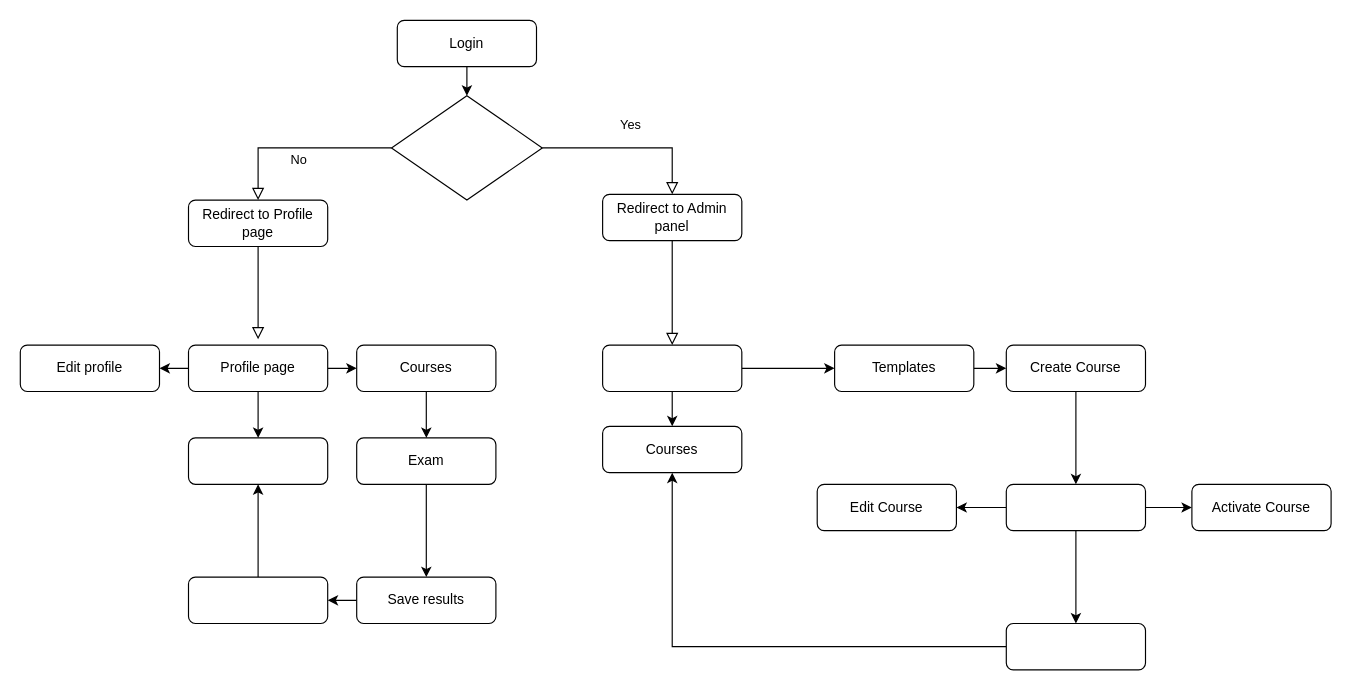
Image size: 1351x690. Some labels were removed from this diagram. Here are the shapes that lost their labels. From the top down, the centre of each, then its label:
At point (466, 147): "Is user Admin?".
At point (671, 368): "Admin panel".
At point (257, 460): "Downaloads".
At point (1075, 507): "Save course".
At point (257, 600): "Update to downloads".
At point (1075, 646): "Update Course DB".
